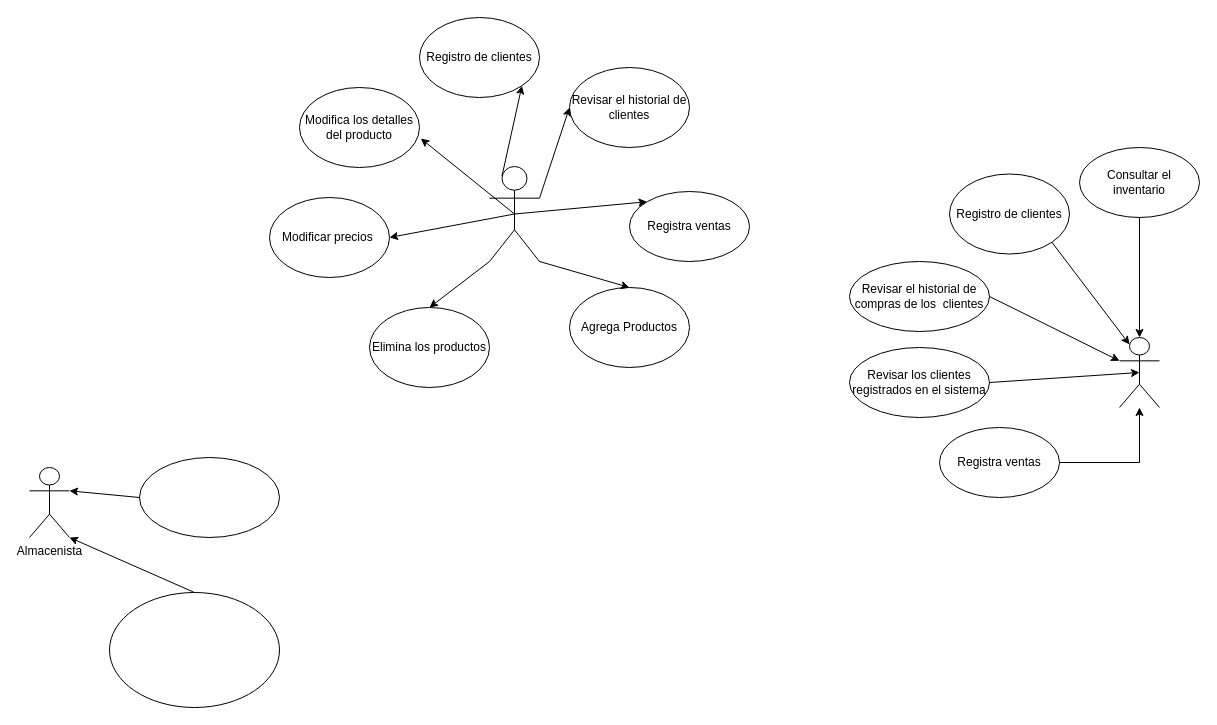
Image size: 1217x725. Some labels were removed from this diagram. Here are the shapes that lost their labels. From the top down, the centre of each, then its label:
At pixel 514 214: "Admistrador".
At pixel 1139 372: "Vendedor".
At pixel 209 497: "Consulta los detalles y ubicación de las llantas en el almacén".
At pixel 194 650: "Agrega o disminuye la cantidad de productos en el inventario".
